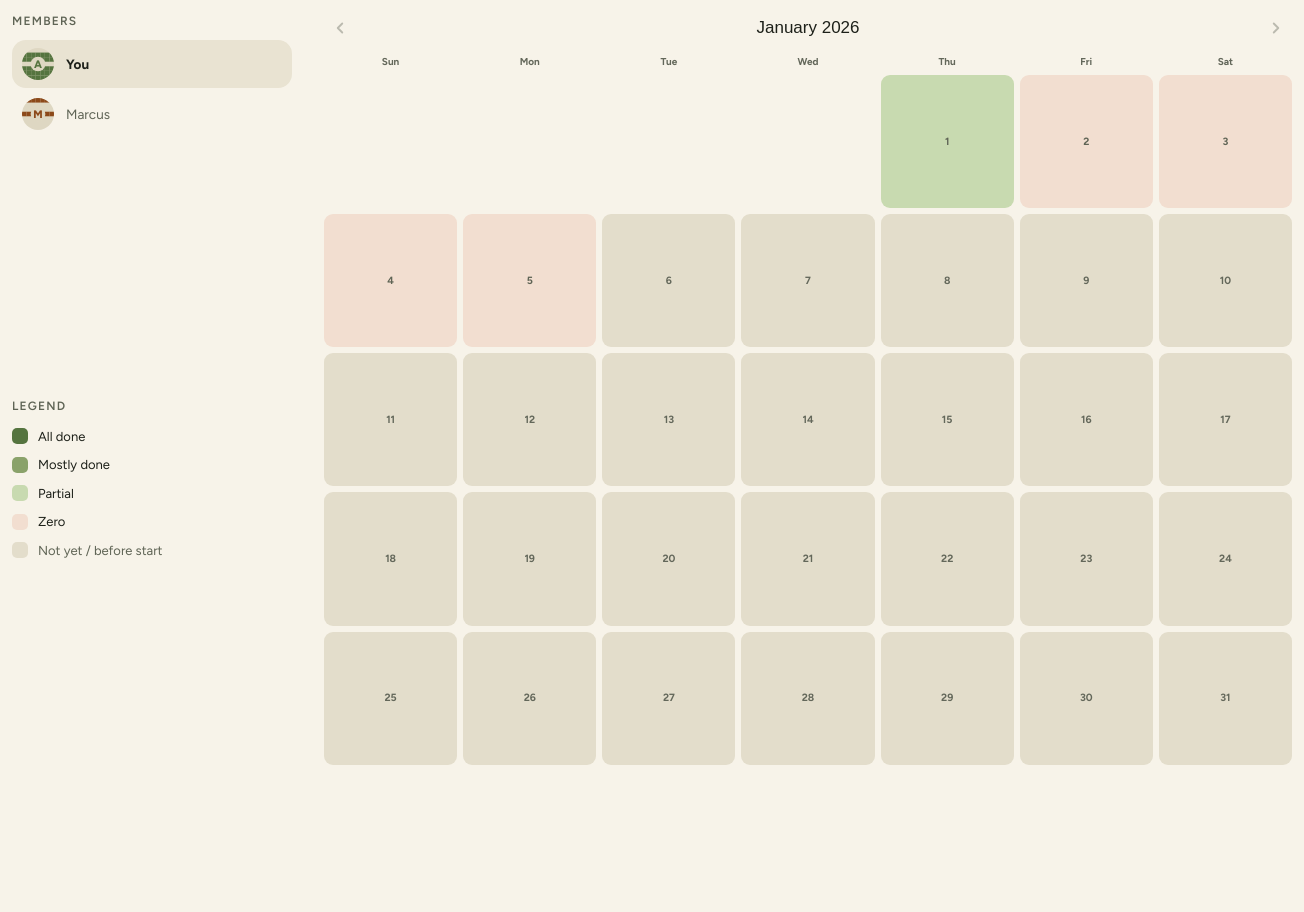
it: WallGrid › opens a day's detail panel on click and closes it via the close button
Click the button named "2026-01-01, 1 of 2 done". click: (947, 142)
box: [881, 75, 1014, 208]
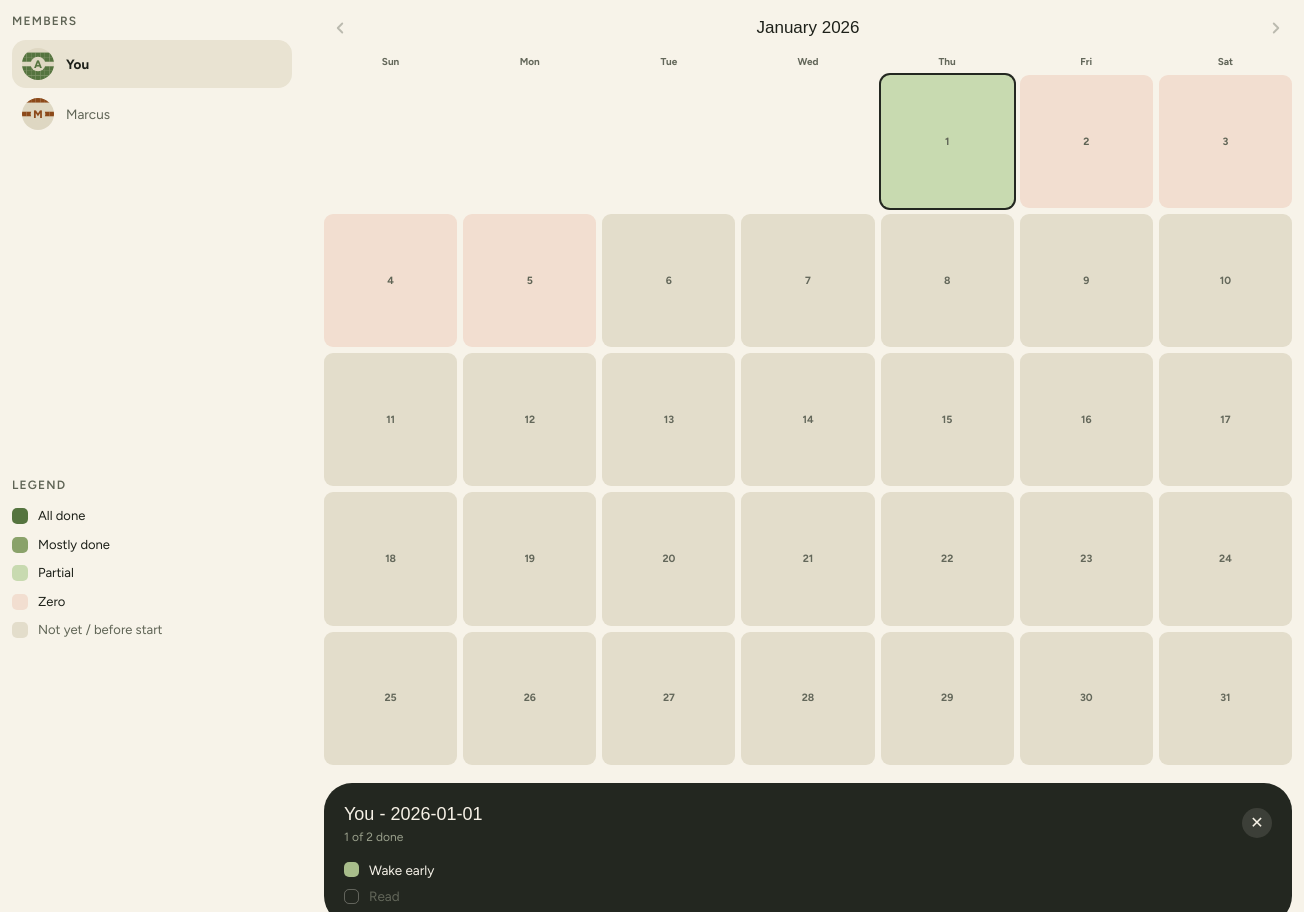
Check: the text "1 of 2 done" is shown, box [344, 830, 403, 844]
Click the button named "Close". click: (1257, 823)
box: [1242, 808, 1272, 838]
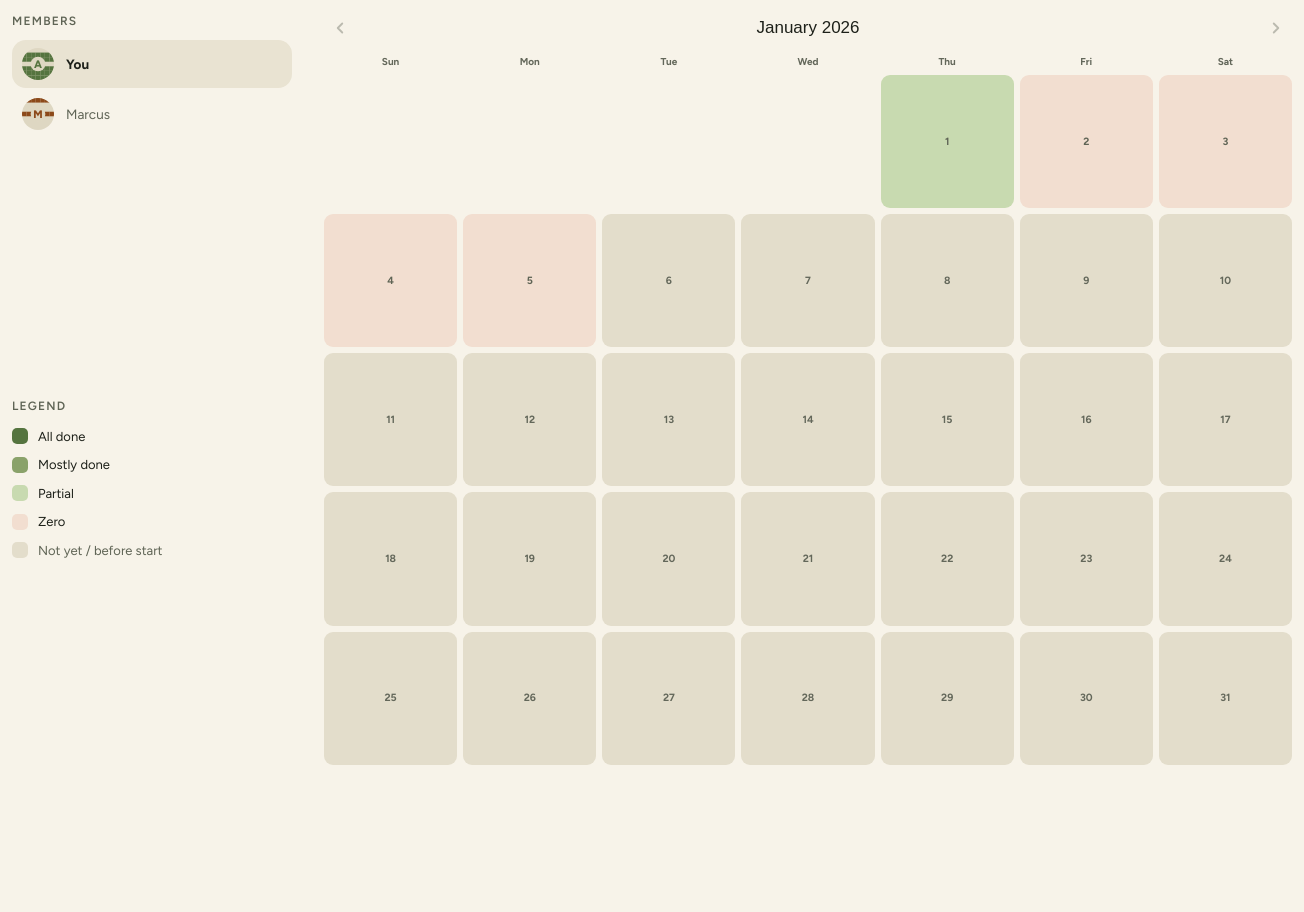
Check: the text "1 of 2 done" is gone
